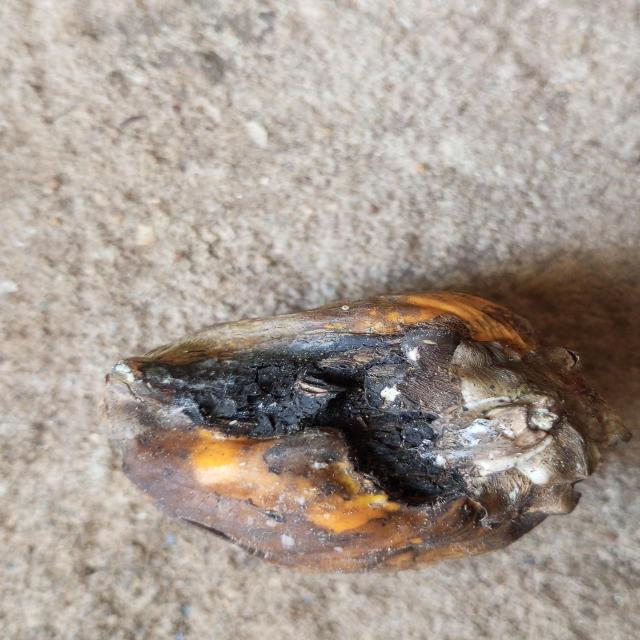damaged: (101, 292, 616, 575)
